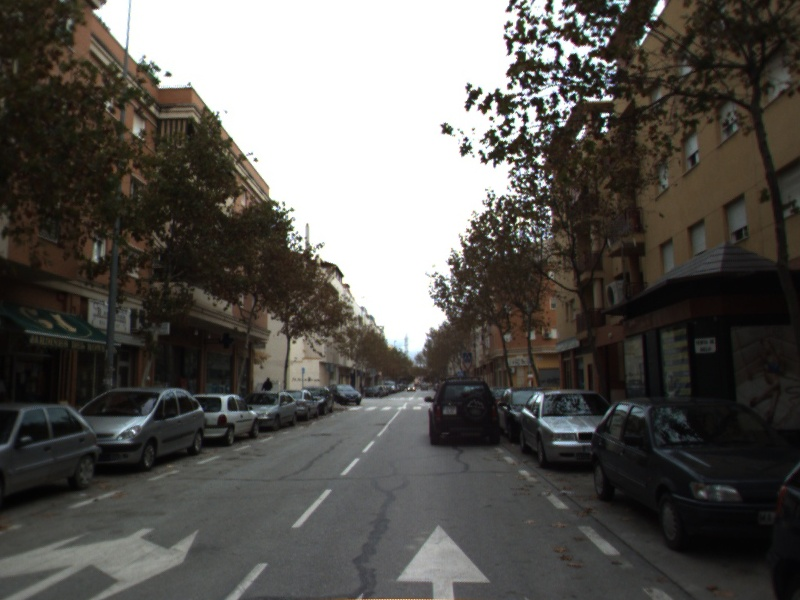STRAIGHT: (392, 521, 494, 600)
